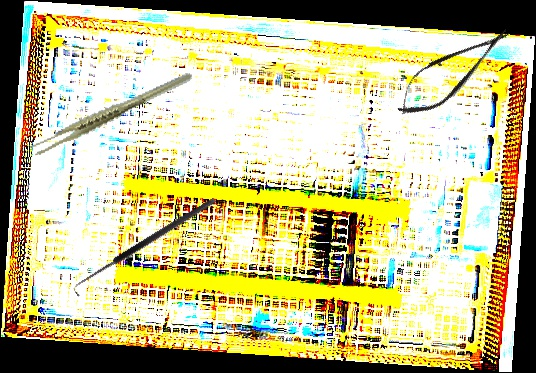Hook Surgical: (70, 195, 221, 299)
Micro Scissor: (386, 14, 520, 128)
Tissue Forceps: (21, 71, 202, 157)
